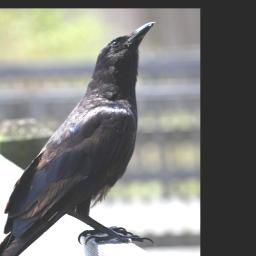Crow: (0, 20, 156, 256)
